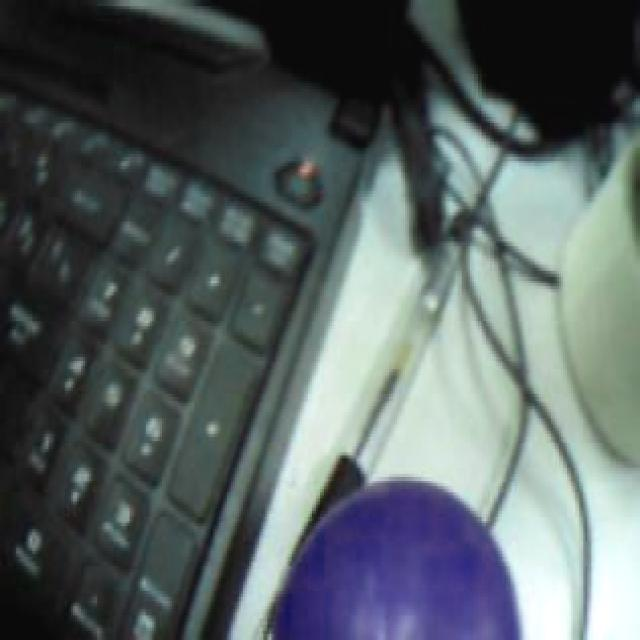BallPurple: (274, 477, 518, 640)
